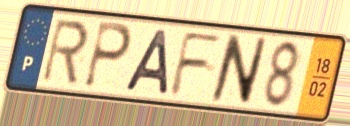8: (262, 38, 303, 111)
A: (121, 27, 171, 97)
F: (167, 30, 226, 98)
N: (208, 32, 270, 108)
P: (81, 19, 135, 91)
R: (39, 17, 91, 87)
